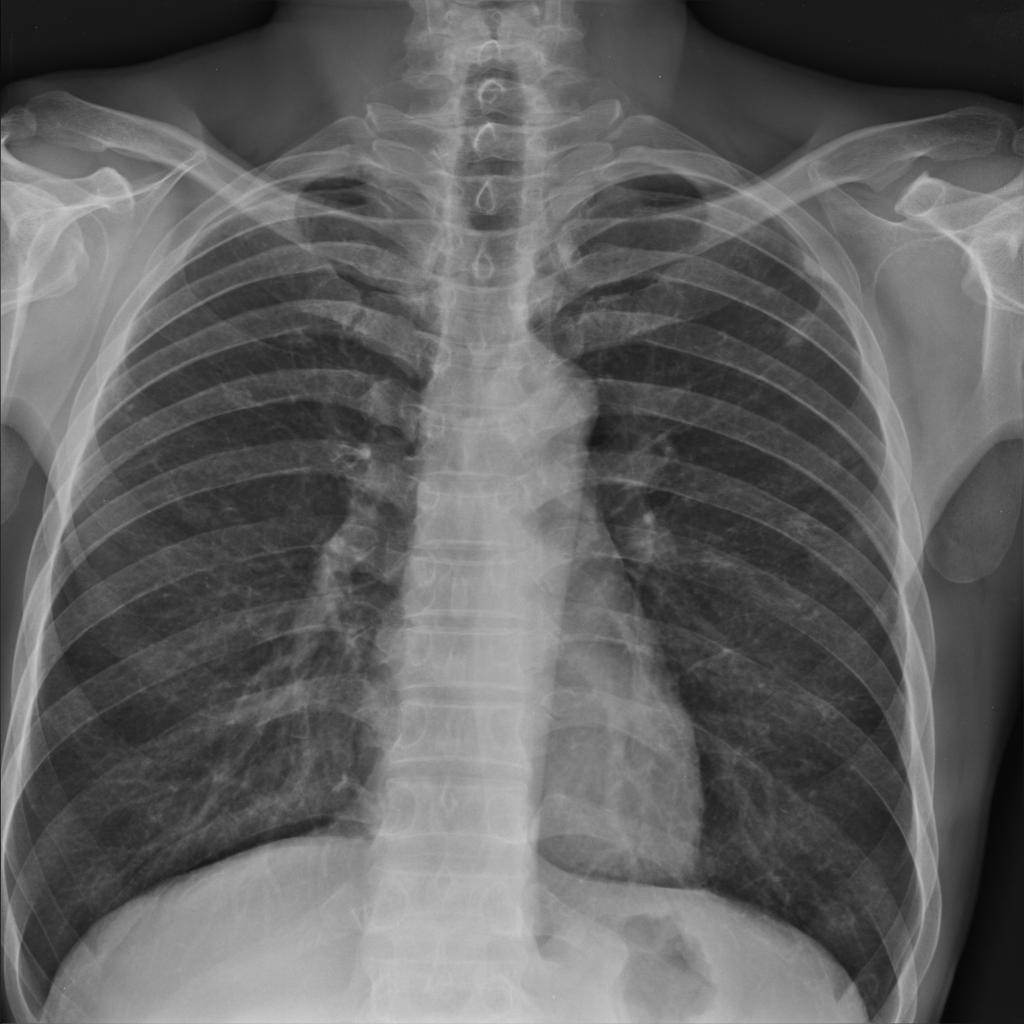Nodule: (125, 403, 135, 412)
